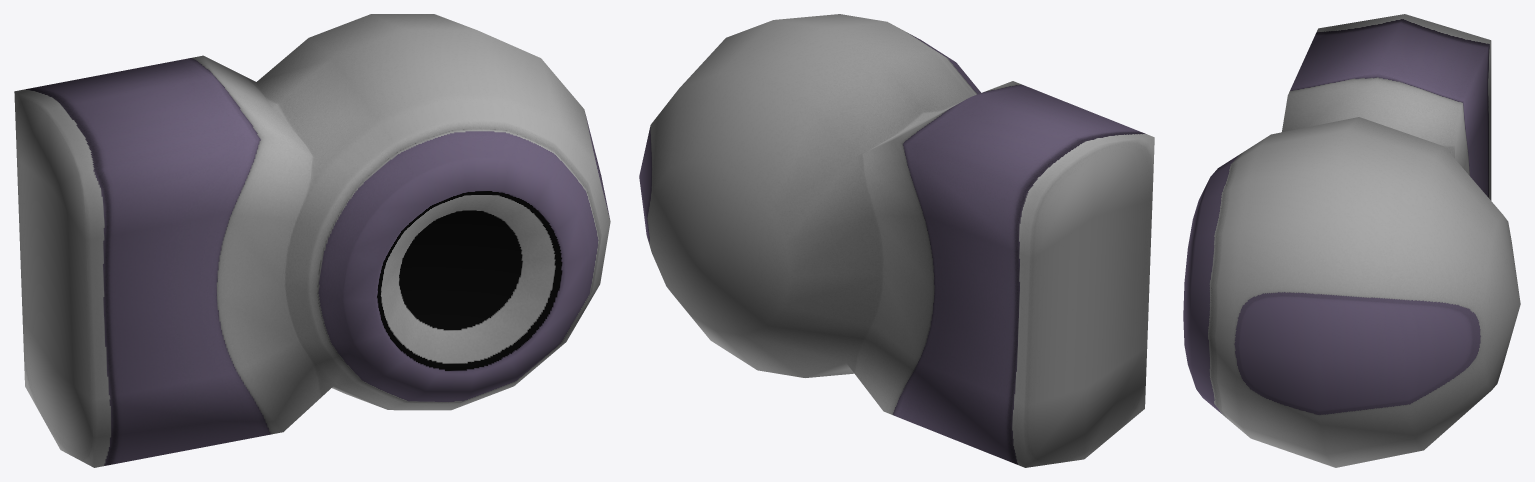
Rendered from ld36-accessories-camera.fbx.
The picture shows the model from 3 angles, left to right: view 1: azimuth 30°, elevation 25°; view 2: azimuth 150°, elevation 25°; view 3: azimuth 270°, elevation 25°; orthographic projection. The views are drawn at different scales.
Parts seen in each view (by area): view 1: GameBox-Camera; view 2: GameBox-Camera; view 3: GameBox-Camera.
Boxes of the visible parts, bbox=[...] form: GameBox-Camera: bbox=[14, 14, 610, 467]; GameBox-Camera: bbox=[639, 14, 1154, 467]; GameBox-Camera: bbox=[1183, 14, 1520, 467].
Bounding box in the file's own units: 207 × 141 × 135.
